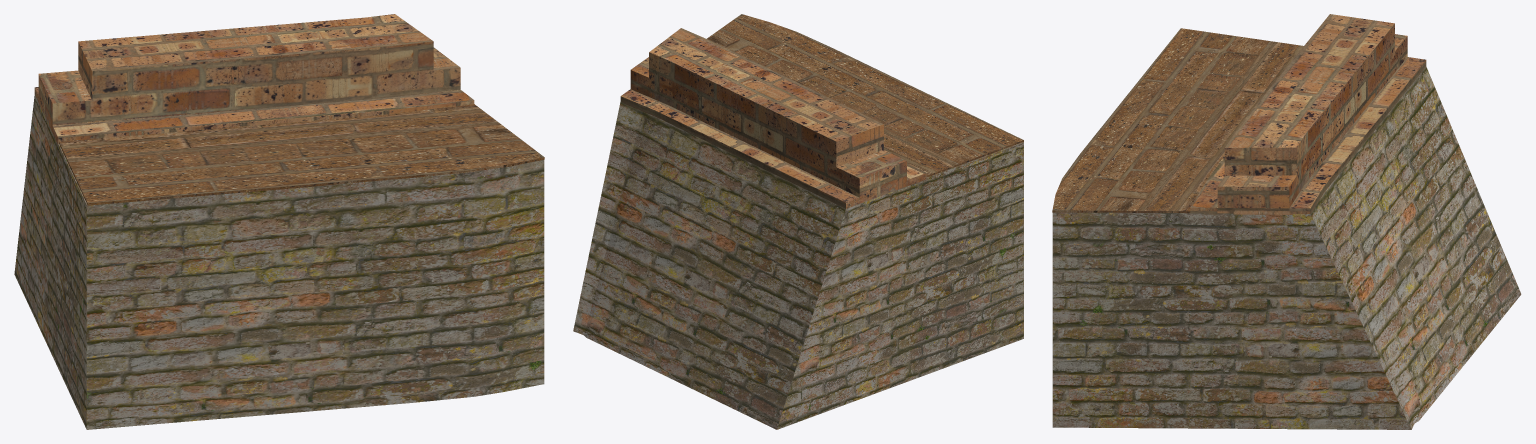
The model's file is StoneRampartCurve1.fbx.
The picture shows the model from 3 angles, left to right: view 1: azimuth 30°, elevation 25°; view 2: azimuth 150°, elevation 25°; view 3: azimuth 270°, elevation 25°; orthographic projection. The views are drawn at different scales.
Parts seen in each view (by area): view 1: RampartBody.001, Rampart.001, RampartFloor.001; view 2: RampartBody.001, Rampart.001, RampartFloor.001; view 3: RampartBody.001, RampartFloor.001, Rampart.001.
Part boxes in pixels (left/top/right/bottom): RampartBody.001: left=14, top=95, right=544, bottom=429; Rampart.001: left=34, top=14, right=474, bottom=144; RampartFloor.001: left=59, top=104, right=544, bottom=205; RampartBody.001: left=573, top=101, right=1023, bottom=429; Rampart.001: left=620, top=28, right=926, bottom=208; RampartFloor.001: left=707, top=14, right=1023, bottom=177; RampartBody.001: left=1052, top=66, right=1521, bottom=429; RampartFloor.001: left=1052, top=28, right=1303, bottom=213; Rampart.001: left=1190, top=14, right=1426, bottom=214.
Size of the model in its own units: 368 by 251 by 395.
